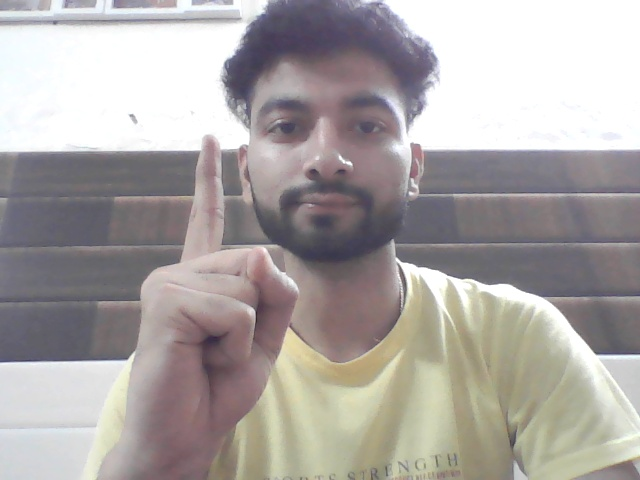Yes: (120, 133, 309, 449)
